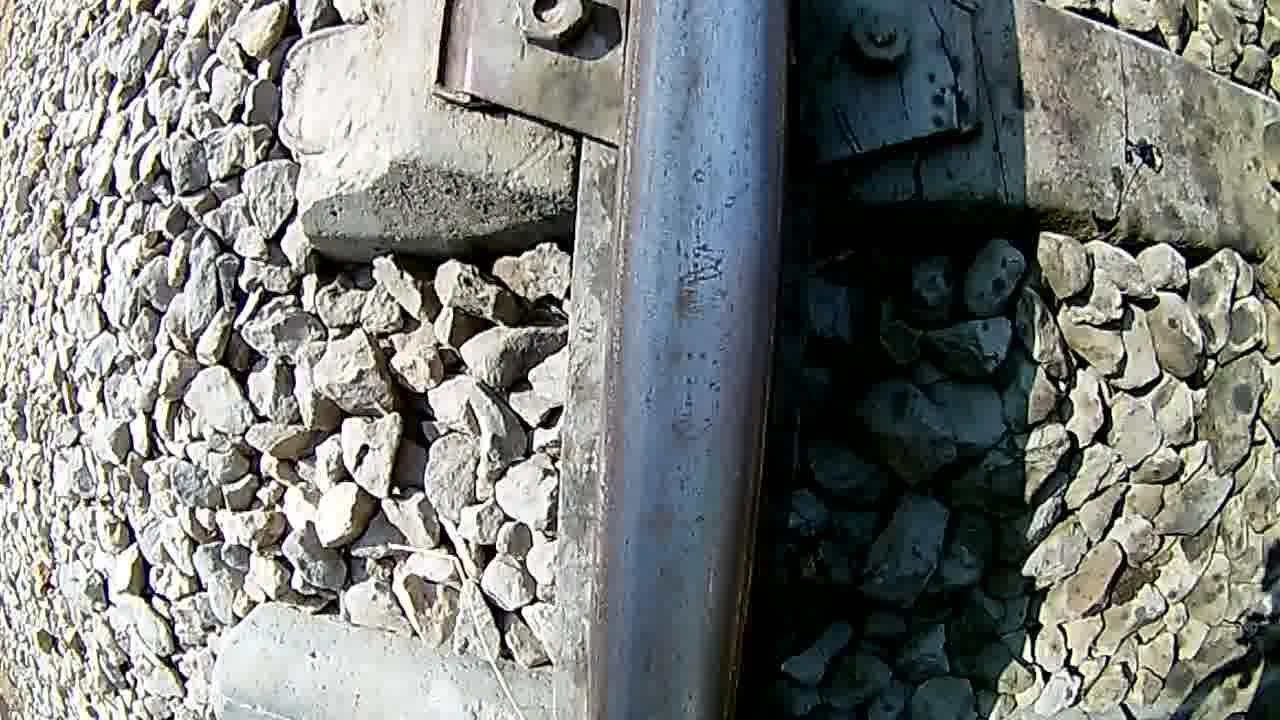crack: (613, 0, 786, 720)
